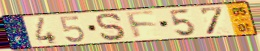4: (34, 17, 58, 45)
5: (58, 14, 87, 44), (168, 8, 198, 37)
7: (199, 6, 227, 36)
F: (124, 10, 159, 41)
S: (95, 12, 129, 42)
